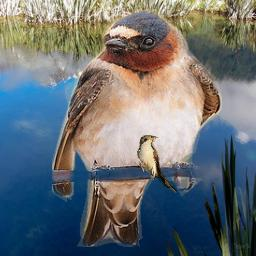Cuckoo: (137, 135, 178, 194)
Swallow: (52, 9, 222, 247)
